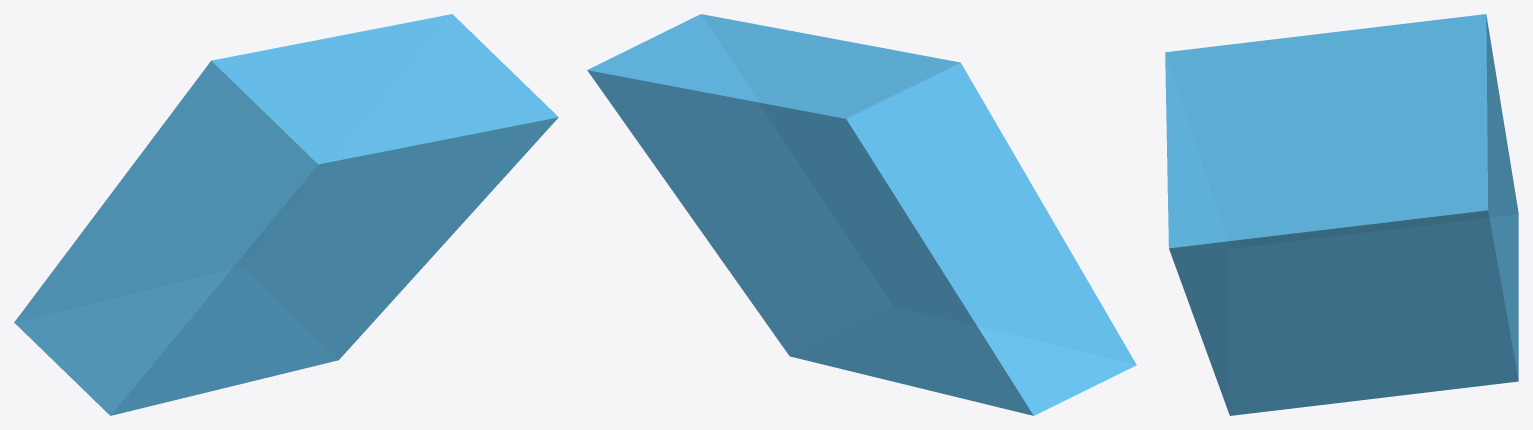
File: Event_420107950_HBrechit_31.fbx
The picture shows the model from 3 angles, left to right: view 1: azimuth 30°, elevation 25°; view 2: azimuth 150°, elevation 25°; view 3: azimuth 270°, elevation 25°; orthographic projection. The views are drawn at different scales.
Visible parts, largest first — view 1: Model; view 2: Model; view 3: Model.
Part boxes in pixels (left/top/right/bottom): Model: left=14, top=14, right=558, bottom=415; Model: left=587, top=14, right=1136, bottom=415; Model: left=1165, top=14, right=1518, bottom=415.
Bounding box in the file's own units: 1.02 × 0.5645 × 0.4875.
